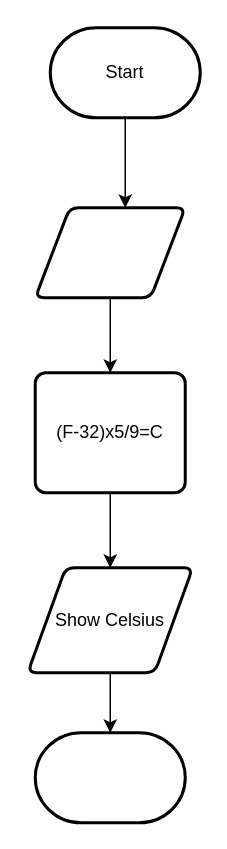
Some shapes in this 227 by 849 pixel diagram are drawn without their labels. The centre of each missing label's shape, as x and y in pixels:
End: (109,777)
Enter Temp (F): (109,252)
